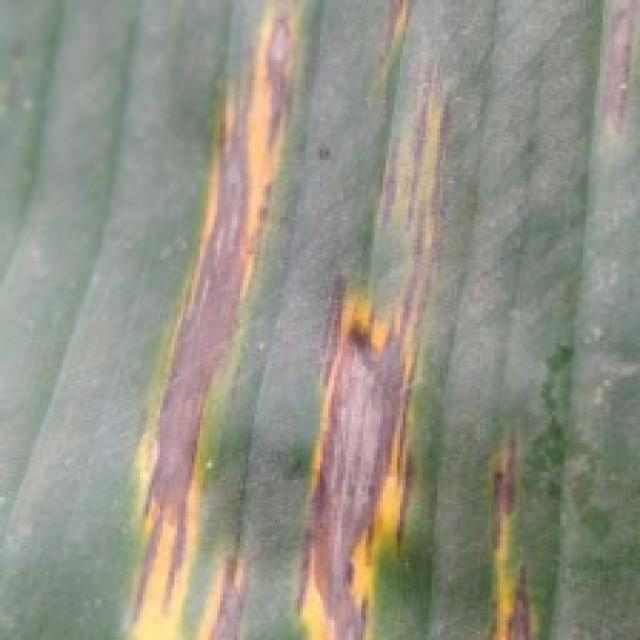Early_leaf_spot: (111, 0, 299, 640), (307, 0, 464, 640), (454, 385, 574, 640), (583, 0, 640, 182)
